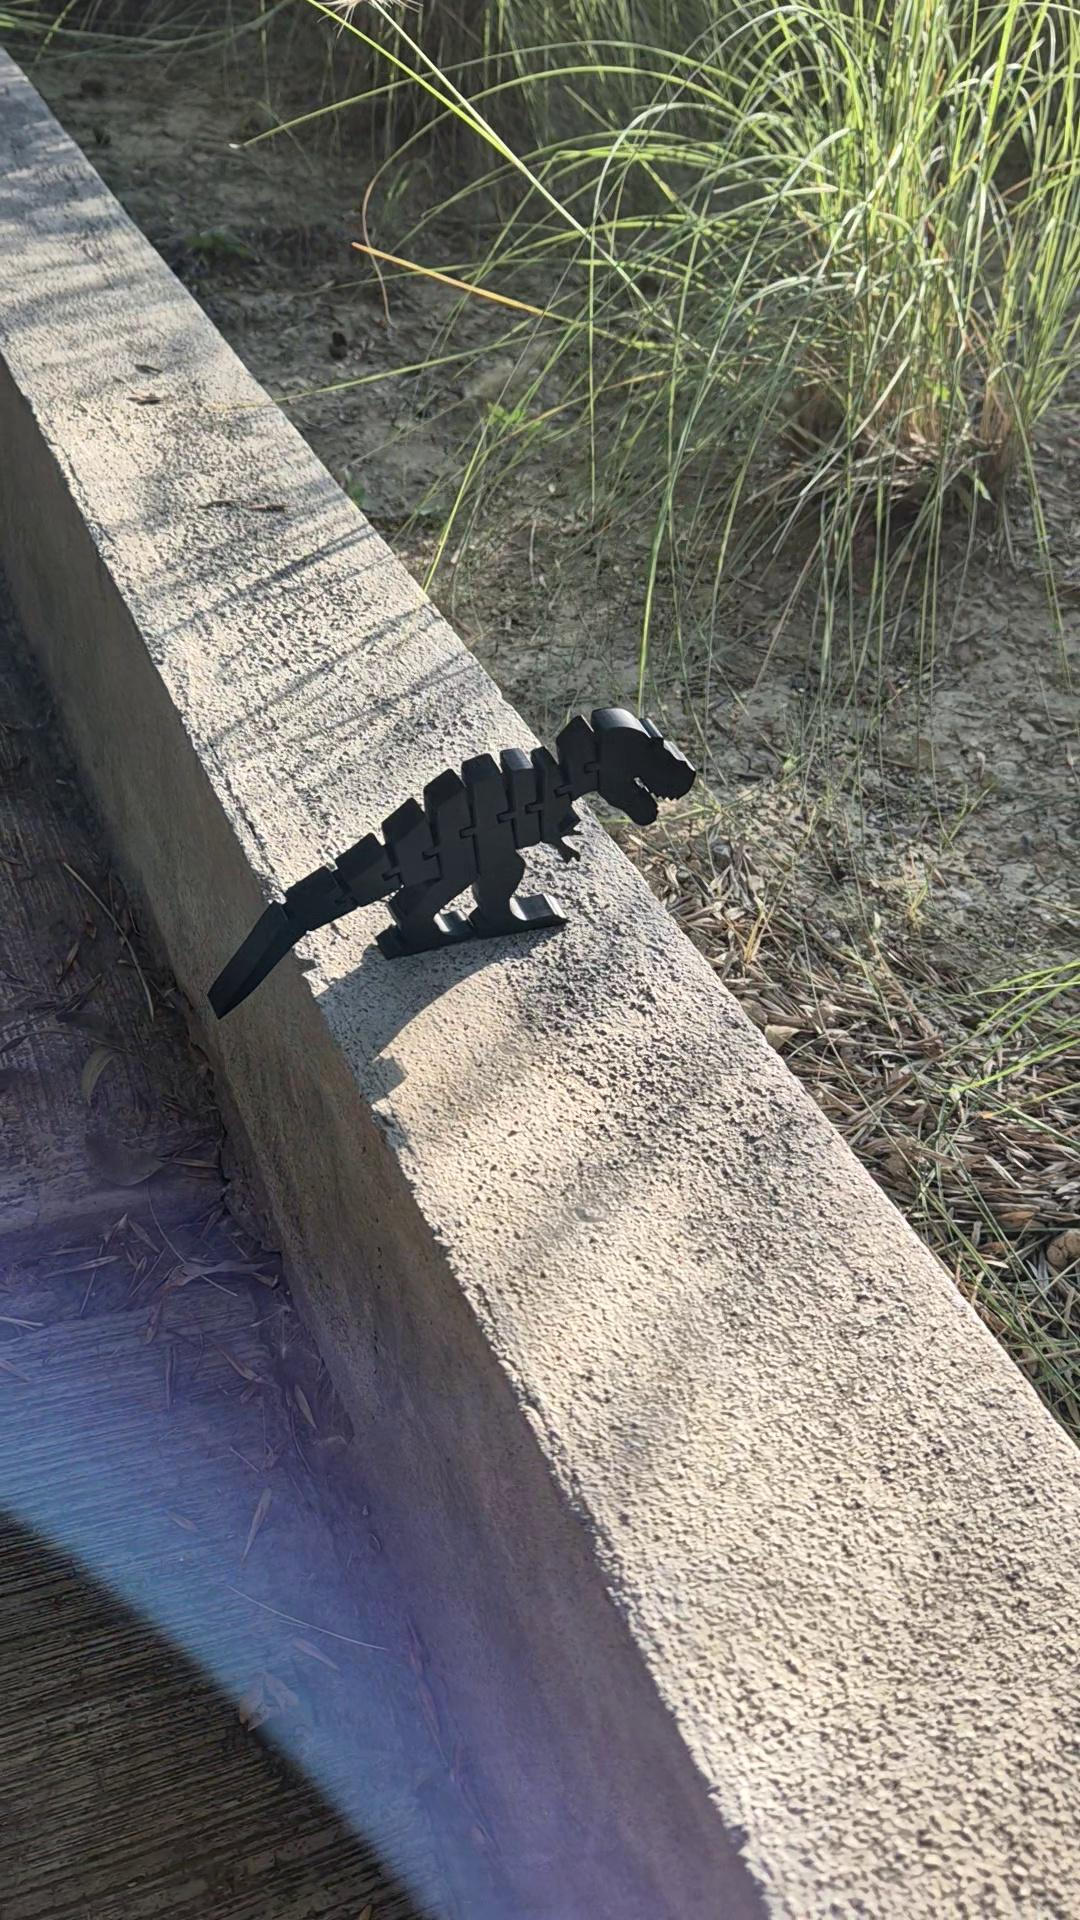dinosaur: (203, 704, 699, 1023)
